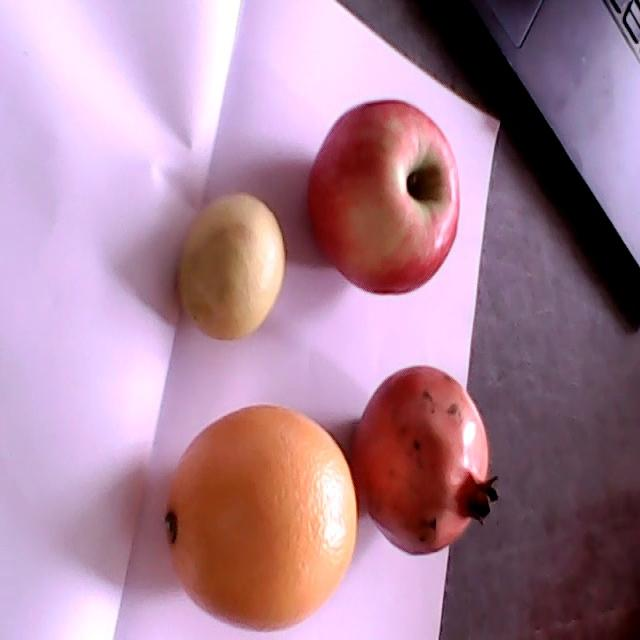apple: (306, 99, 461, 295)
lemon: (177, 189, 286, 343)
orange: (164, 405, 357, 631)
pomegranate: (352, 366, 497, 558)
